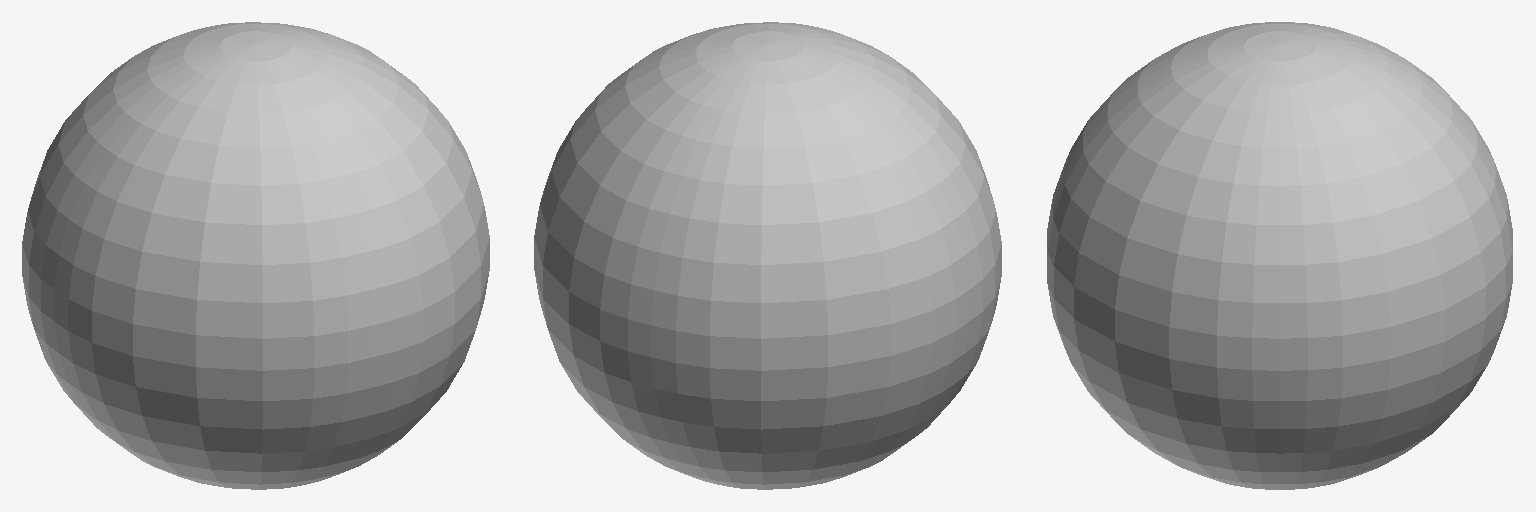
The model's file is sol.obj.
3 renders of one model, left to right at view 1: azimuth 30°, elevation 25°; view 2: azimuth 150°, elevation 25°; view 3: azimuth 270°, elevation 25°, orthographic.
Visible parts, largest first — view 1: SurfSphere; view 2: SurfSphere; view 3: SurfSphere.
Boxes of the visible parts, box(x1,y1,x2,y2) form: SurfSphere: box(22, 22, 489, 489); SurfSphere: box(534, 22, 1001, 489); SurfSphere: box(1047, 22, 1512, 489).
Size of the model in its own units: 4.87 by 4.88 by 4.87.